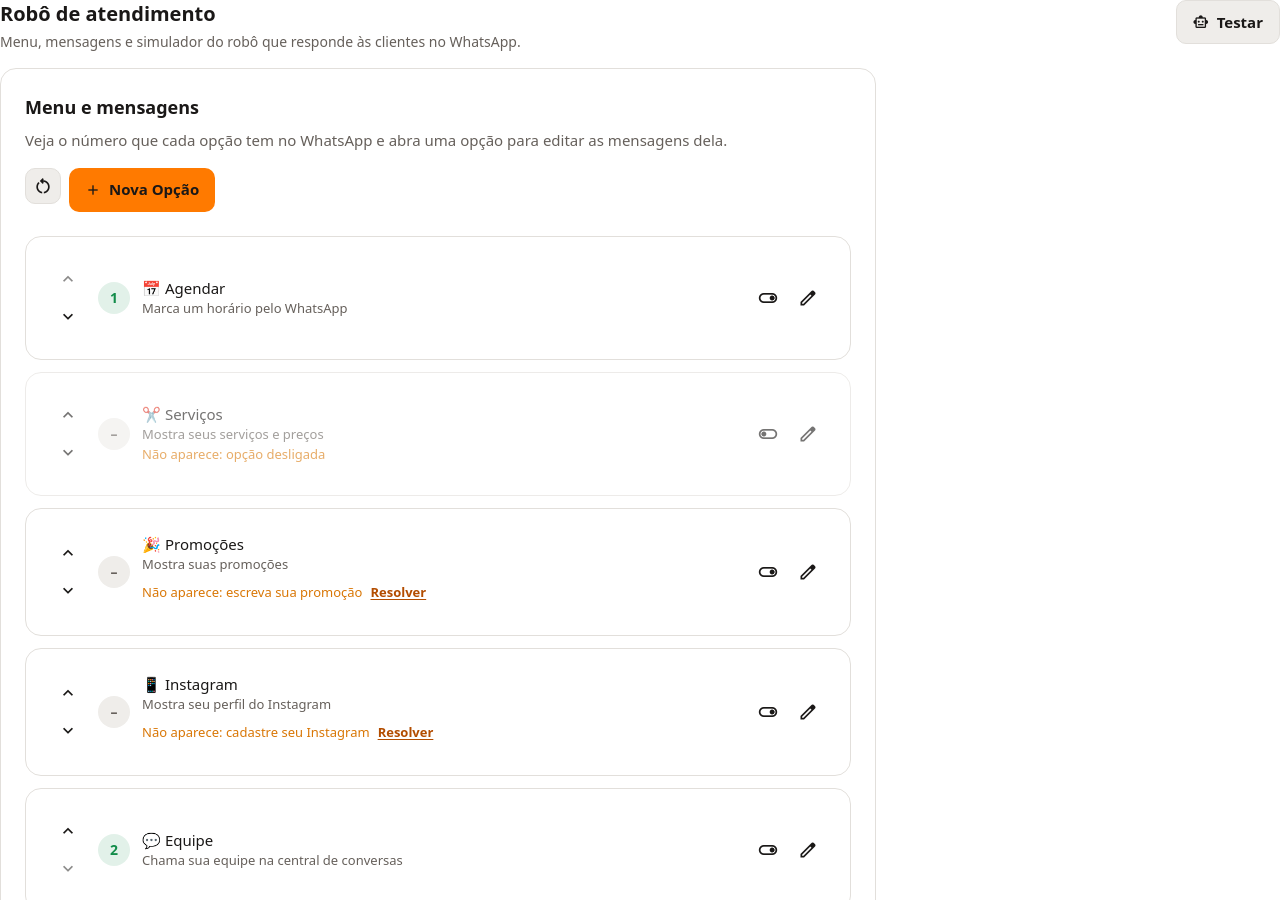
RoboAtendimento - menu e mensagens › o editor da opção não deixa salvar texto vazio, menos o que permite vazio
Click the button named "Editar opção" in the row of "Marca um horário pelo WhatsApp" at [808, 298], box [790,280,826,316]
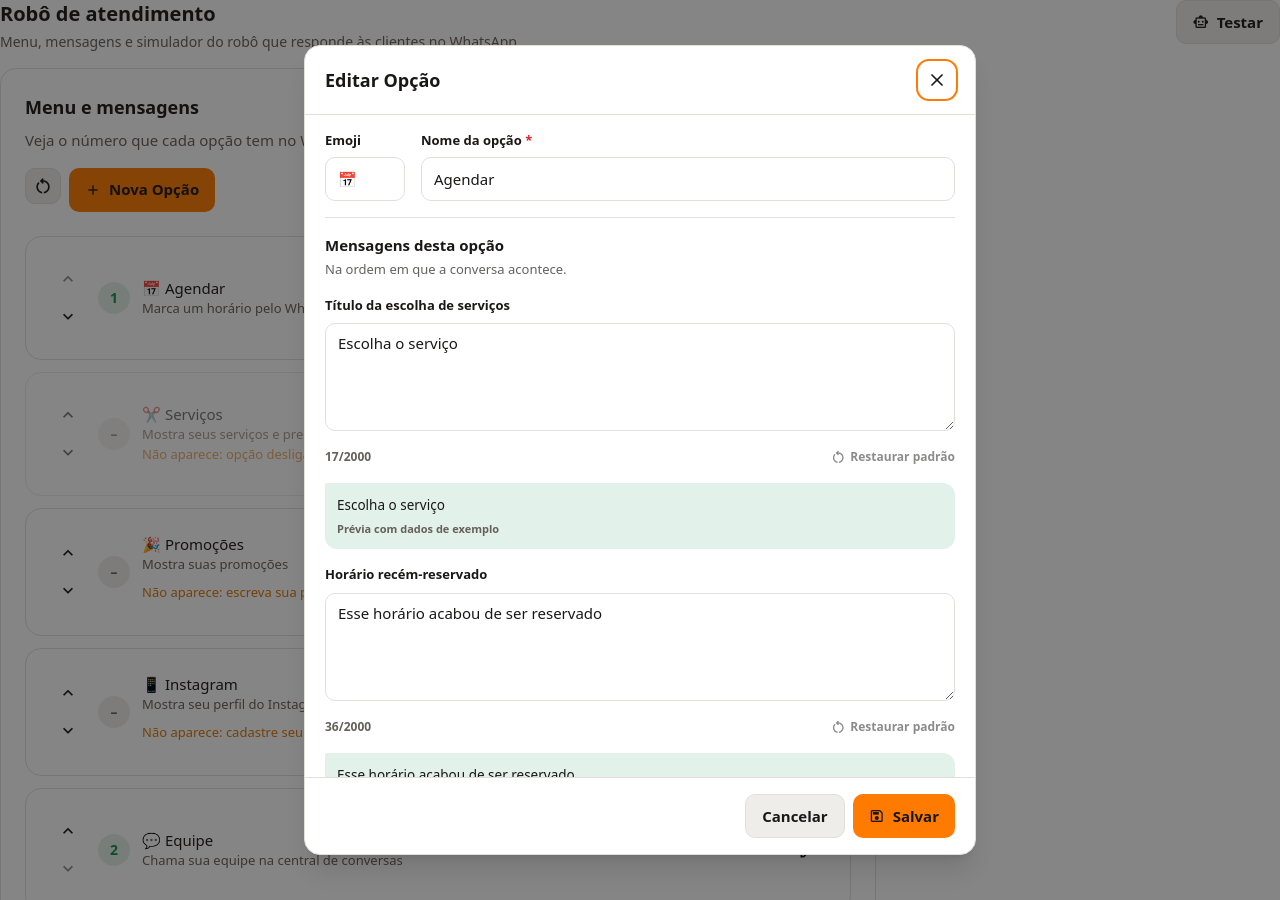
Clear the text box labelled "Horário recém-reservado" at [640, 647], box [325,593,955,701]
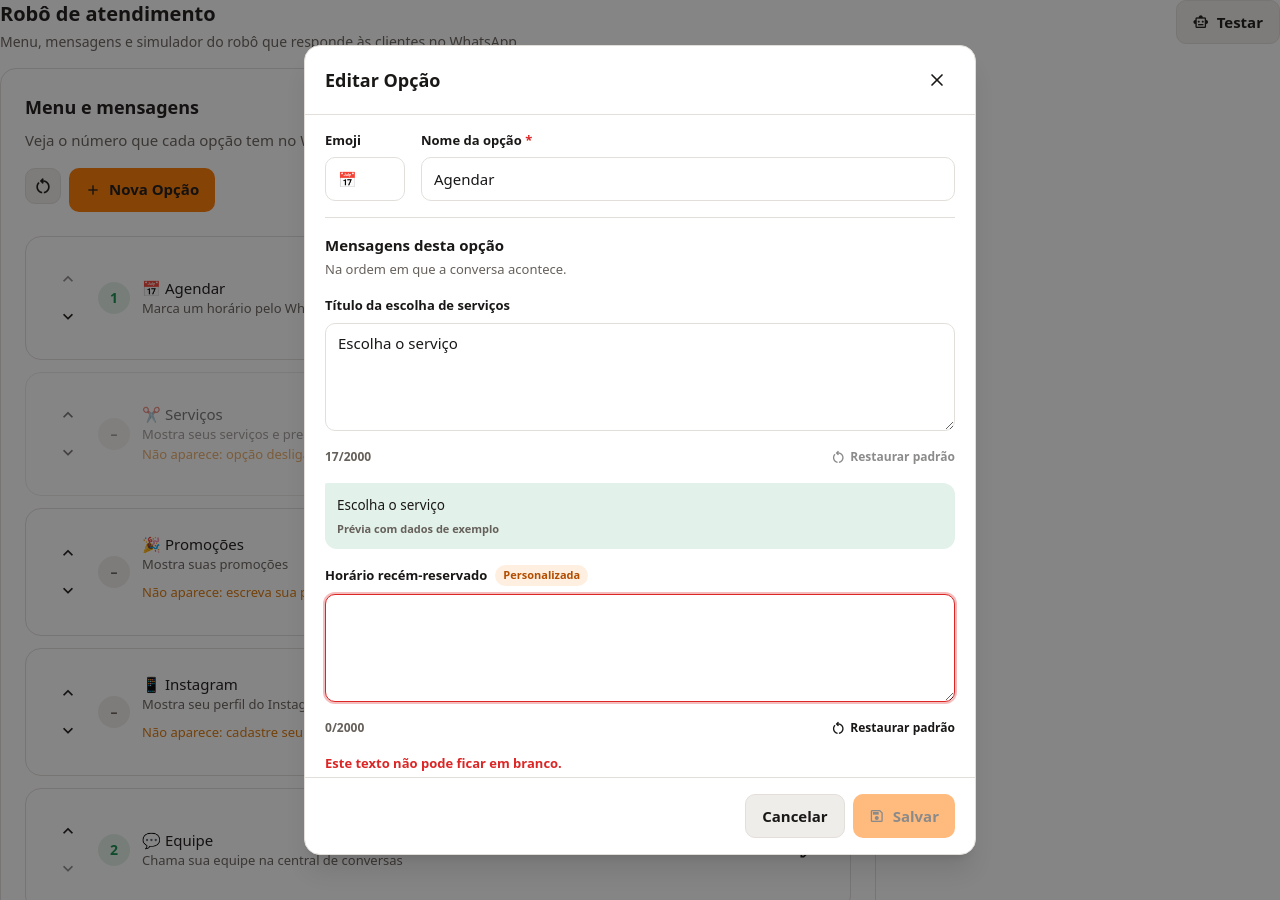
Result: the button "Salvar" is disabled at [853,794,955,838]
